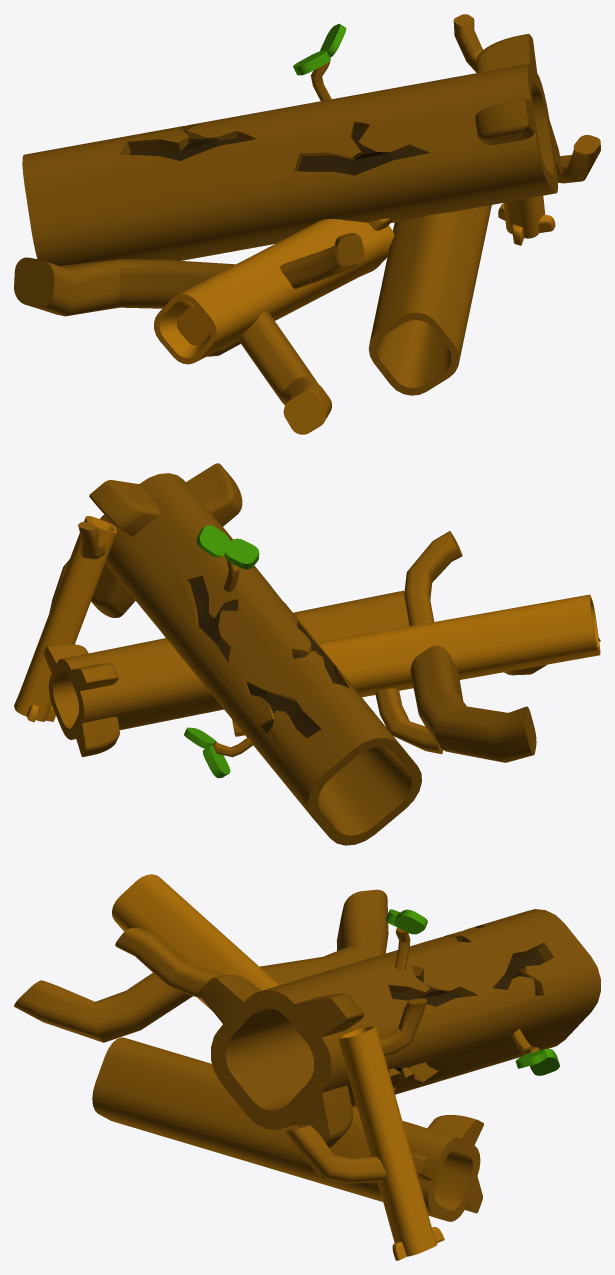
Rendered from breakable_3.fbx.
3 views of the same model, one above another, from view 1: azimuth 30°, elevation 25°; view 2: azimuth 150°, elevation 25°; view 3: azimuth 270°, elevation 25° (orthographic). The views are drawn at different scales.
Parts seen in each view (by area): view 1: Cube.394; view 2: Cube.394; view 3: Cube.394.
Boxes of the visible parts, x1,y1,x2,y2 form: Cube.394: [14, 14, 600, 434]; Cube.394: [14, 463, 600, 845]; Cube.394: [14, 874, 600, 1260].
Size of the model in its own units: 1023 by 461 by 948.
